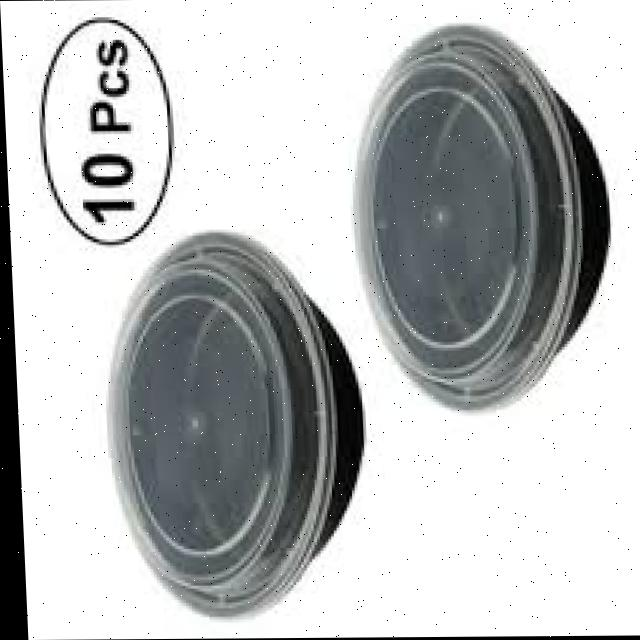disposable: (80, 222, 389, 622), (333, 10, 625, 411)
